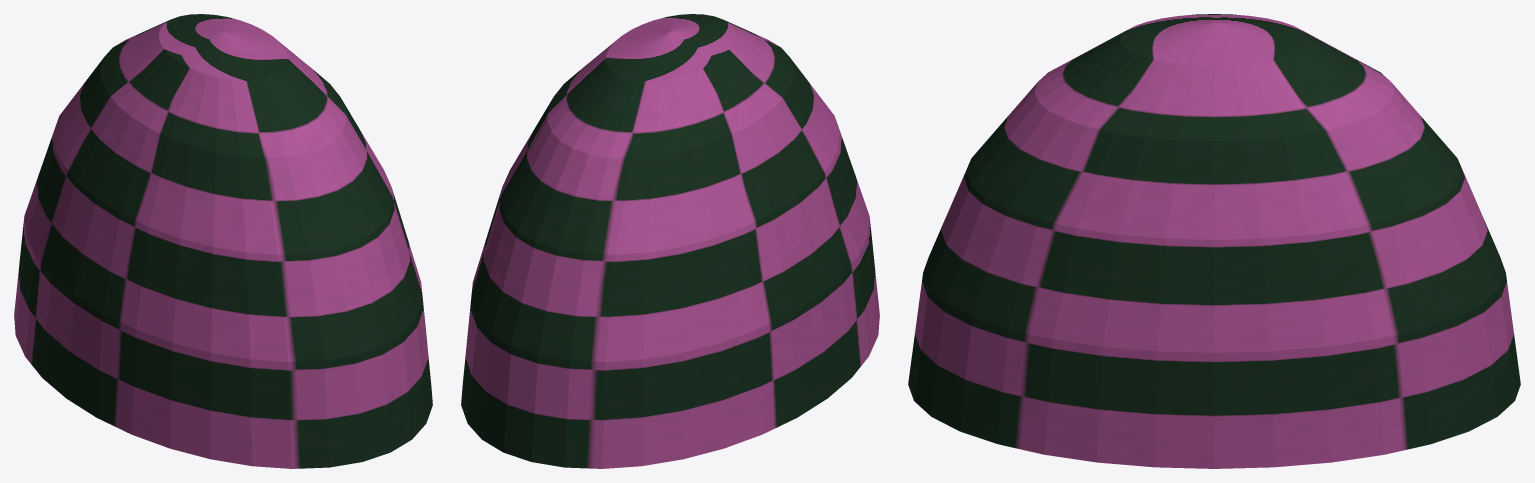
3 views of the same model, side by side, from view 1: azimuth 30°, elevation 25°; view 2: azimuth 150°, elevation 25°; view 3: azimuth 270°, elevation 25° (orthographic). The views are drawn at different scales.
Parts seen in each view (by area): view 1: geometry_0; view 2: geometry_0; view 3: geometry_0.
Boxes of the visible parts, box(x1,y1,x2,y2) form: geometry_0: box(14, 14, 432, 468); geometry_0: box(461, 14, 879, 468); geometry_0: box(908, 14, 1520, 468).
Size of the model in its own units: 0.6647 by 0.6647 by 1.02.
Materials: 1 (1 with a texture image).
